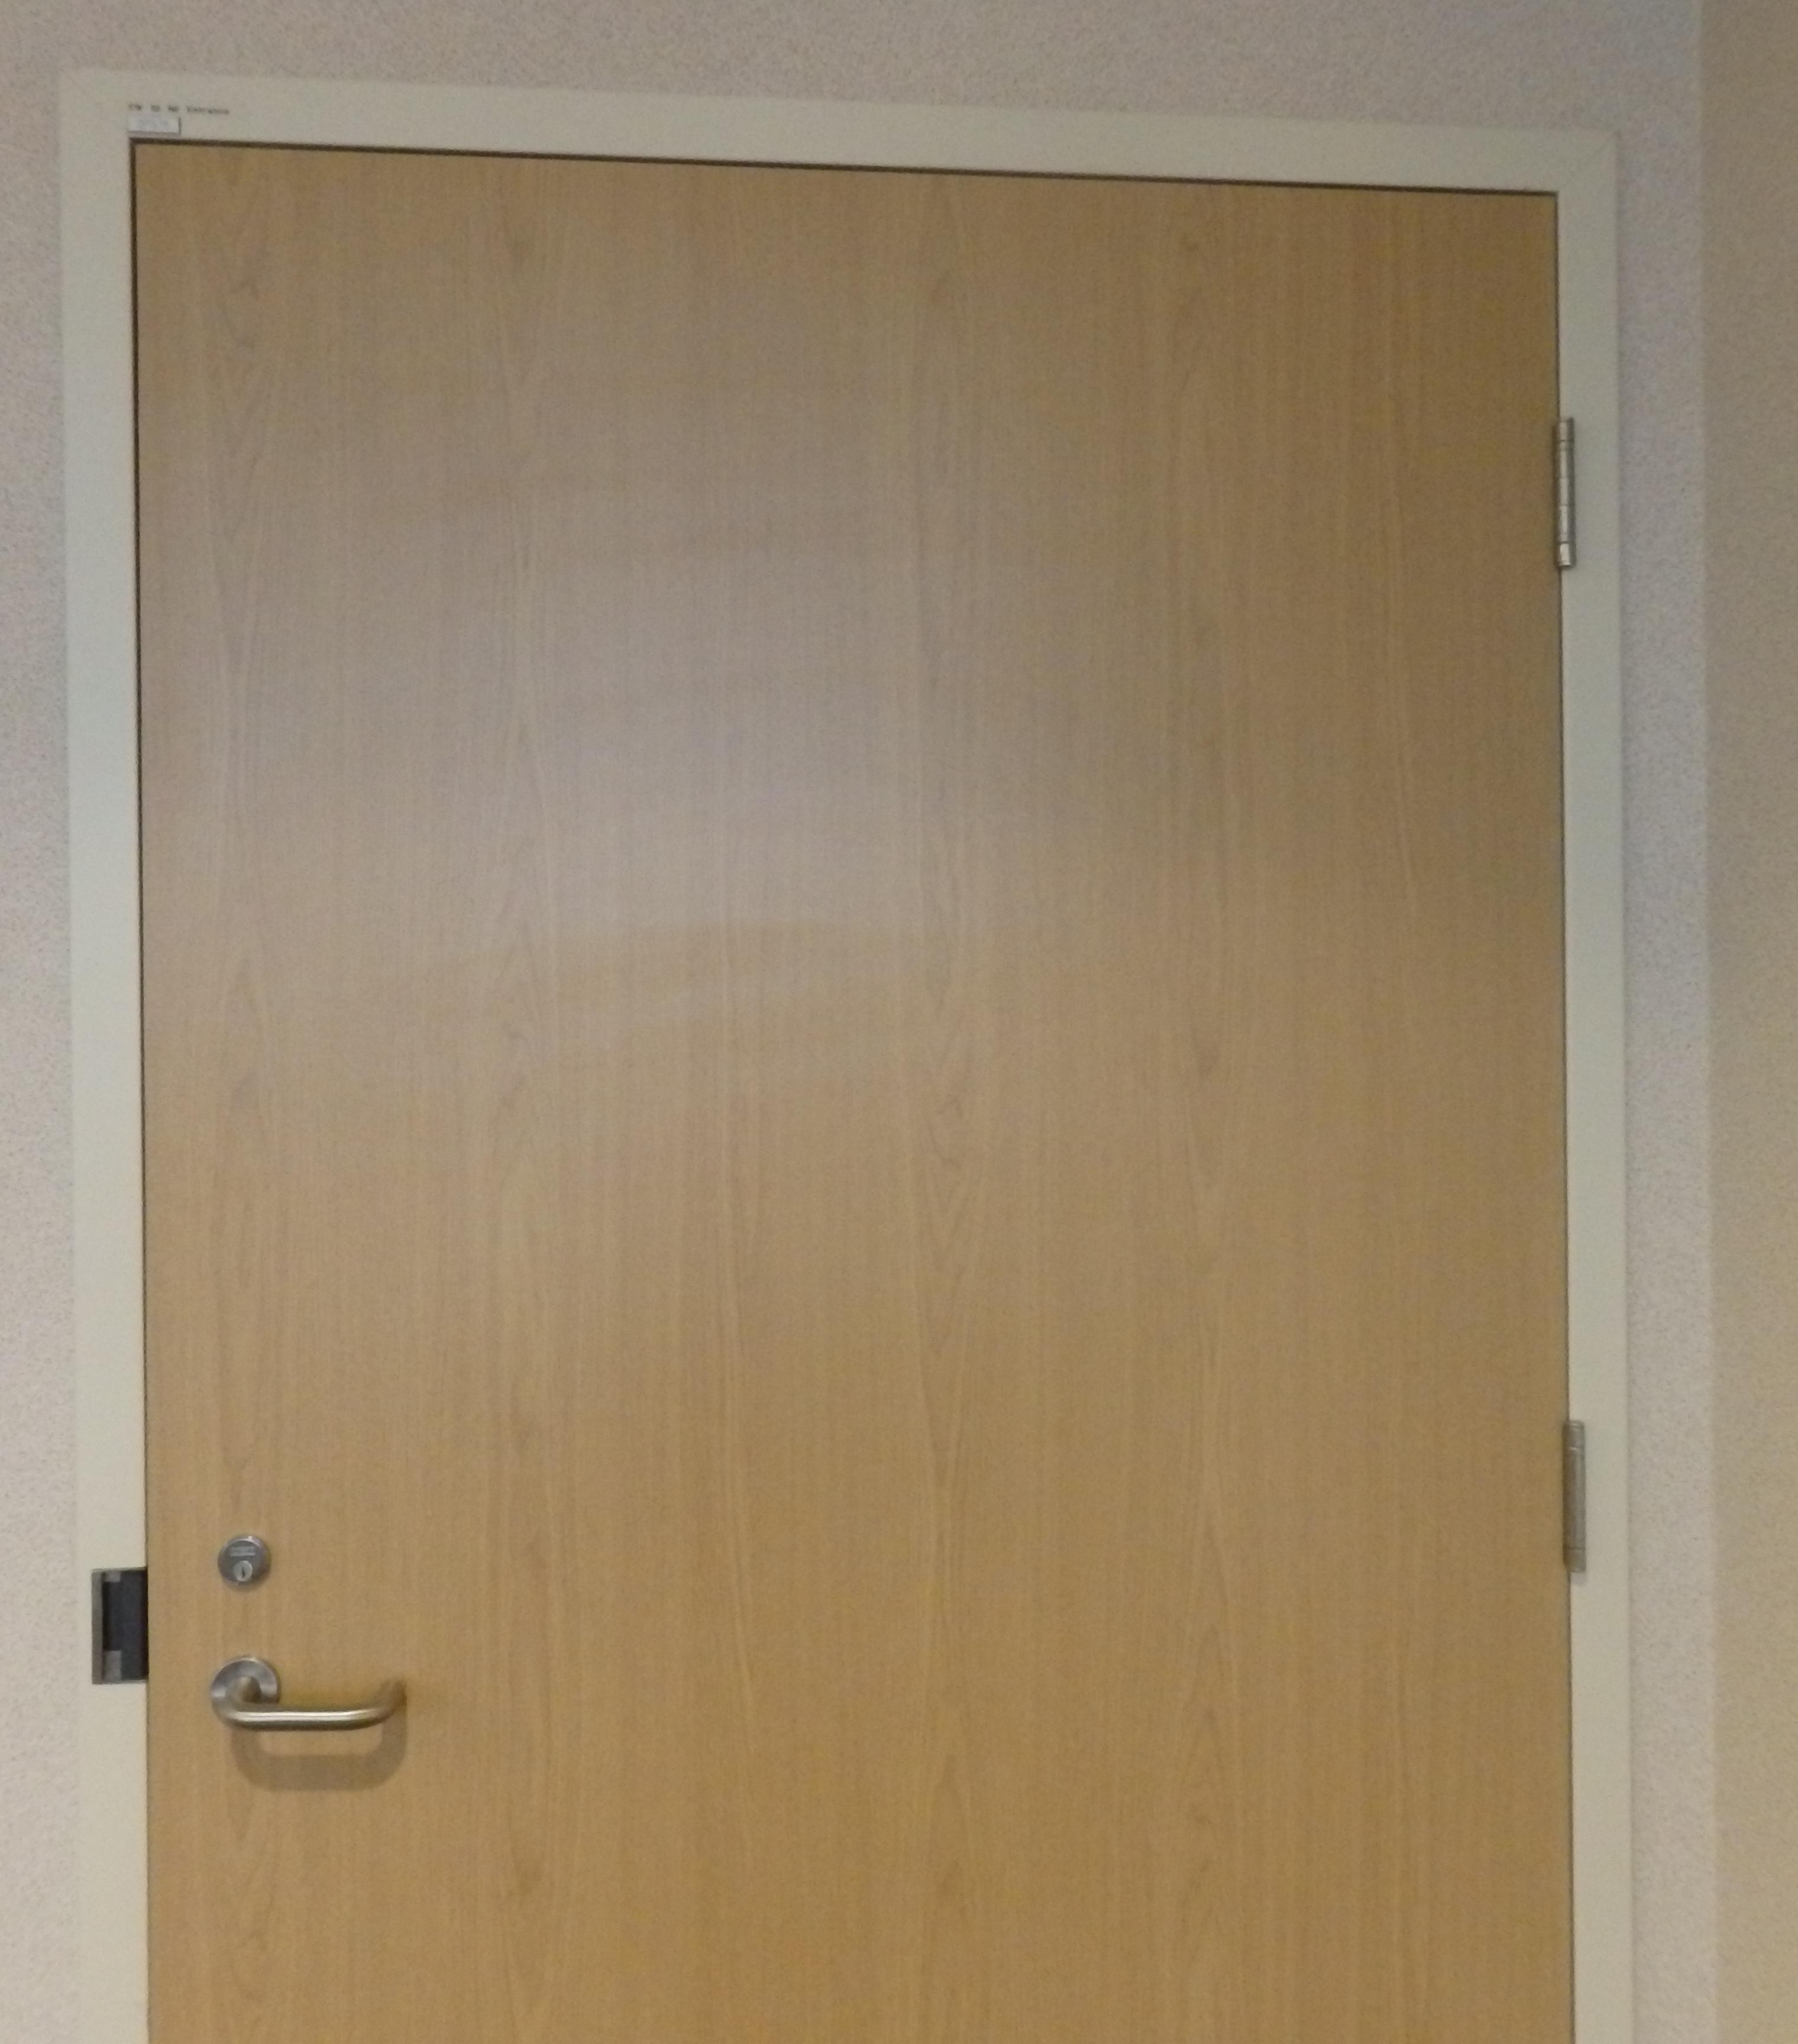door: (111, 115, 1579, 2044)
